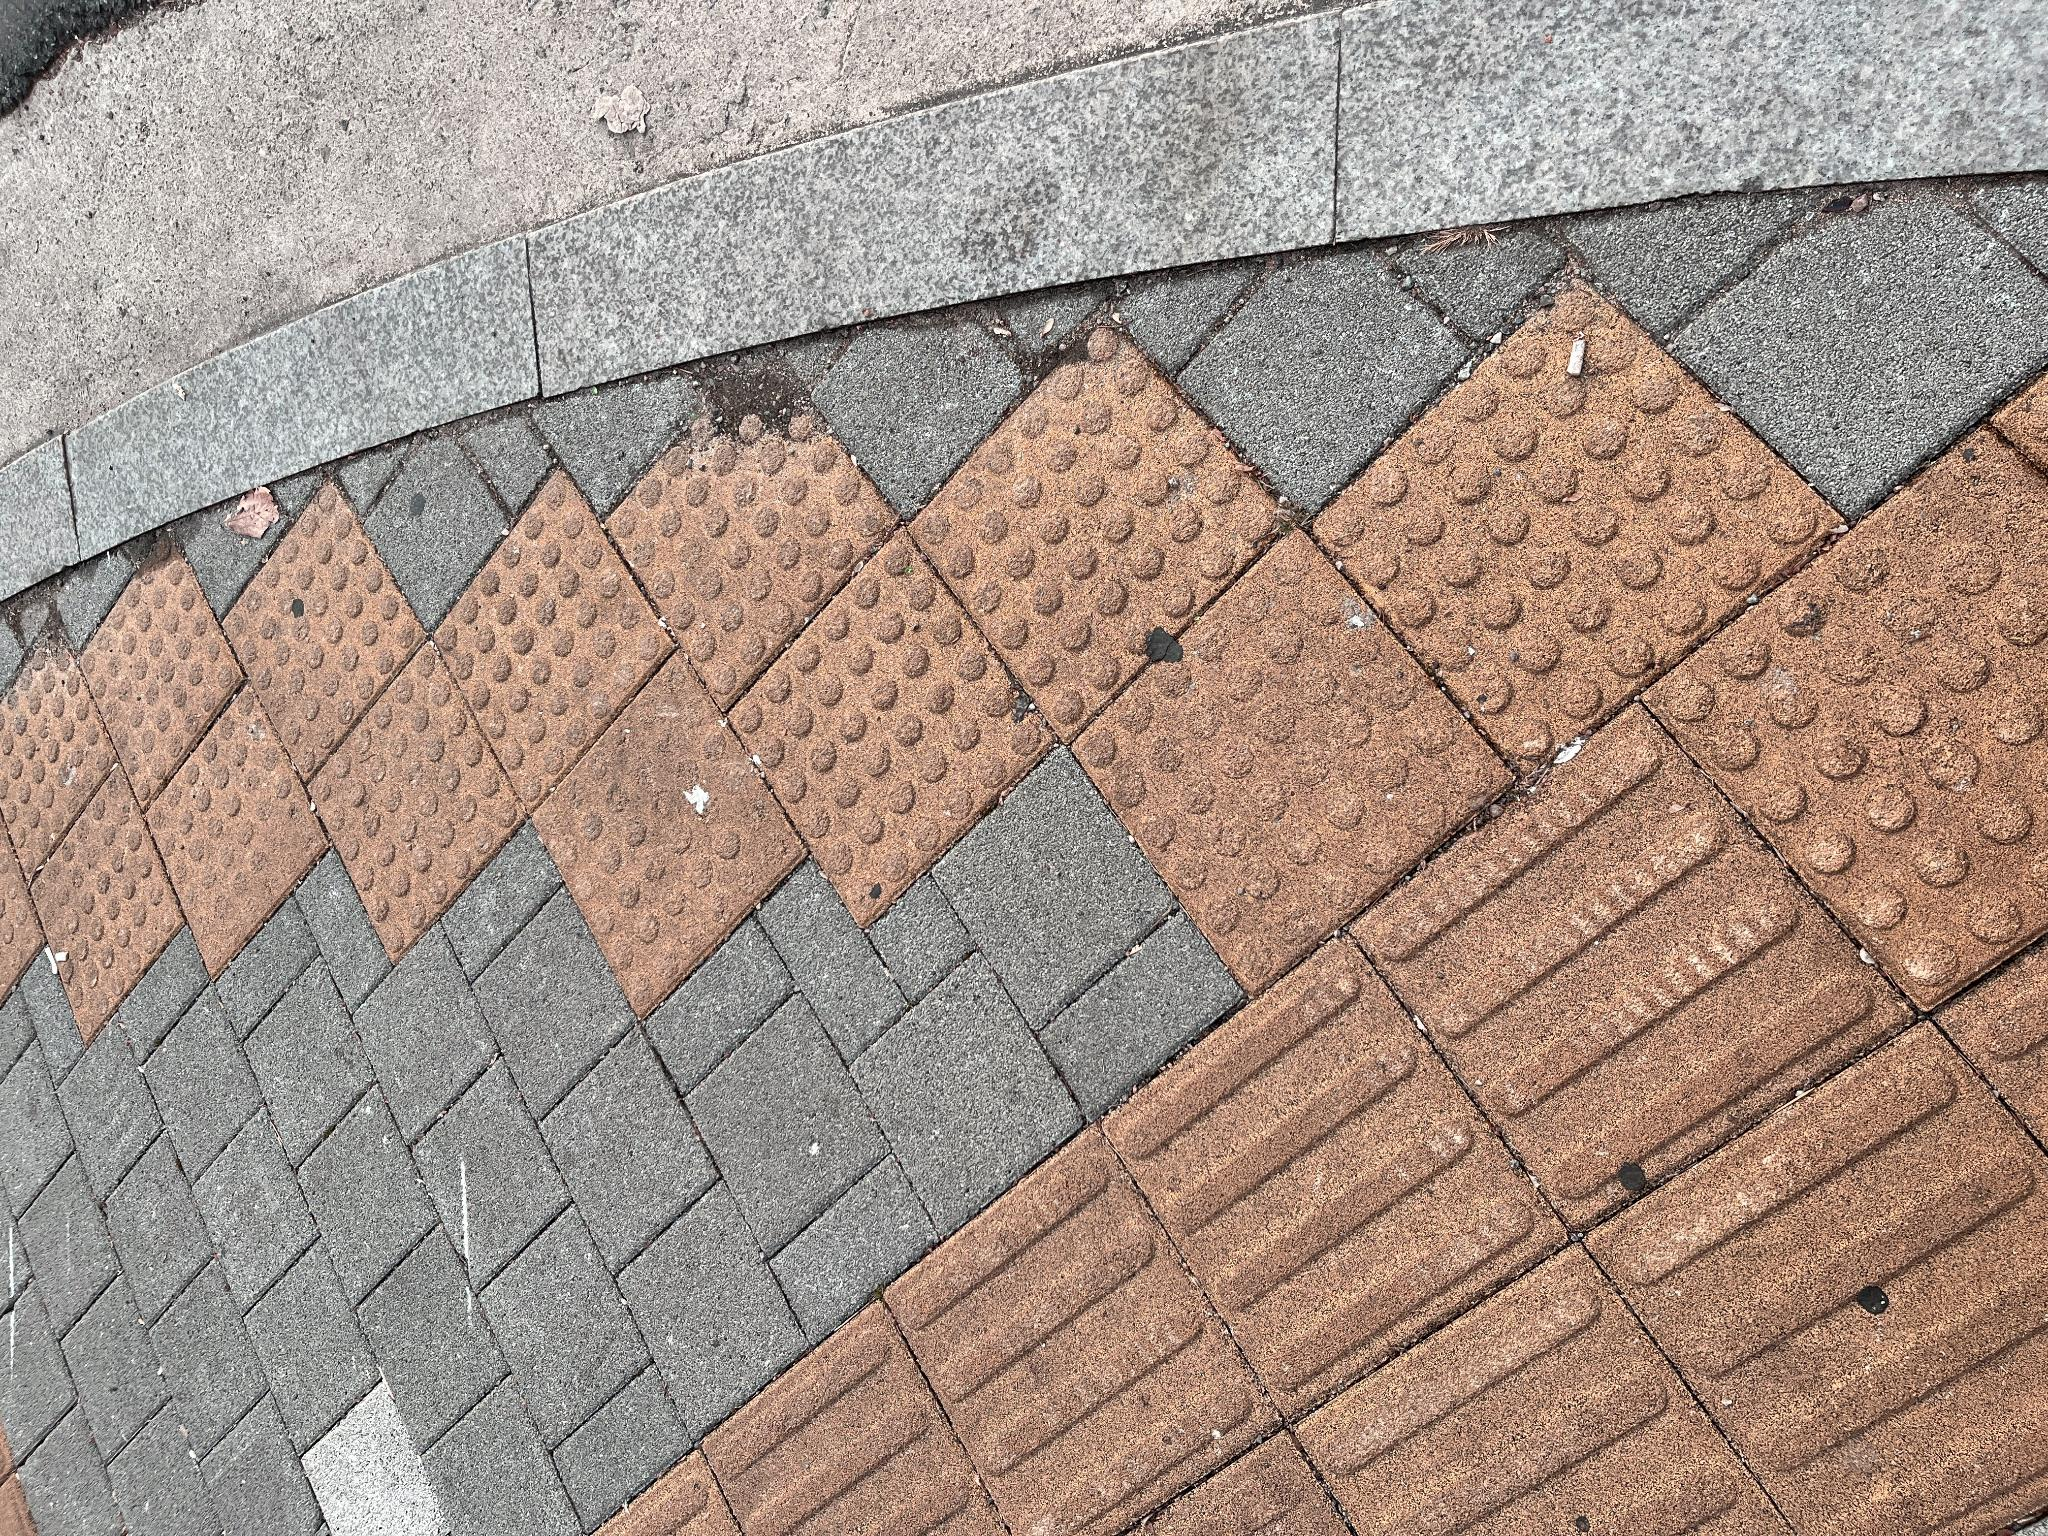Stop block normal: (611, 728, 1003, 1049), (764, 1312, 1221, 1536), (729, 434, 1063, 670), (756, 223, 1059, 423)
Straight block normal: (123, 1107, 600, 1536), (358, 1354, 751, 1536)
